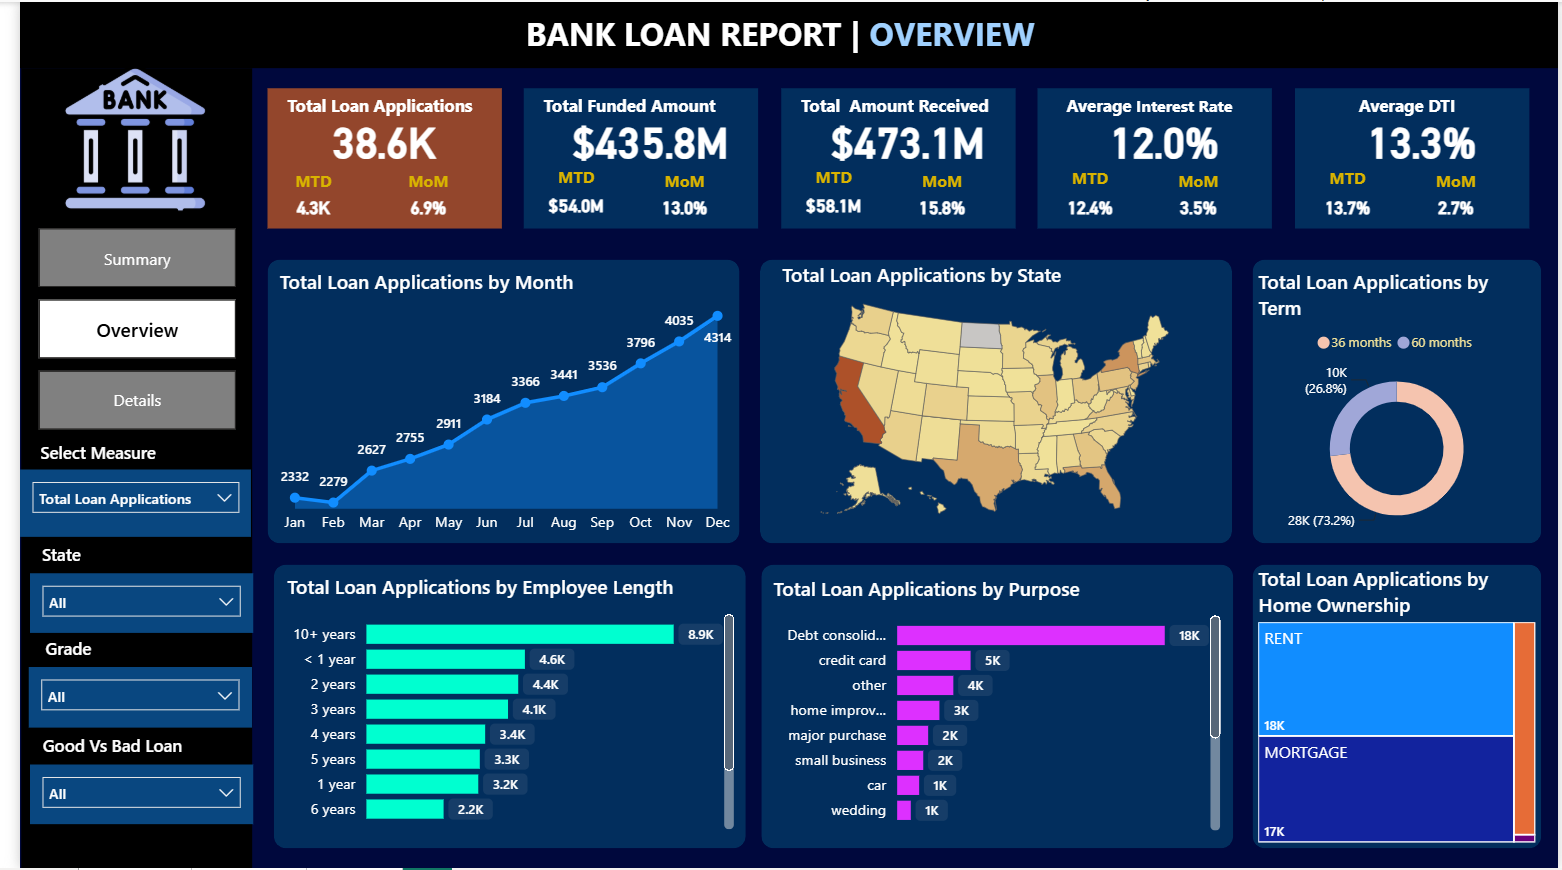

Layout of this report page (visuals, bound fields, positions):
{"tool":"powerbi","page":{"name":"Overview","canvas":[1280,720],"ordinal":1},"visuals":[{"type":"shape","box":[205.8,71.4,194.9,116.6],"z":0,"group":"g1"},{"type":"shape","box":[419.2,71.4,194.9,116.6],"z":0,"group":"g2"},{"type":"shape","box":[632.6,71.4,194.9,116.6],"z":0,"group":"g3"},{"type":"shape","box":[846,71.9,194.9,116.6],"z":0,"group":"g4"},{"type":"shape","box":[1060.1,71.9,194.9,116.6],"z":0,"group":"g5"},{"type":"shape","box":[205.8,214.1,392.5,236],"z":0},{"type":"shape","box":[0,0,1280.3,55],"z":1000},{"type":"textbox","box":[216.8,71.4,223.7,32.9],"z":1000,"group":"g1"},{"type":"textbox","box":[430.2,71.4,223.7,32.9],"z":1000,"group":"g2"},{"type":"textbox","box":[643.6,71.4,223.7,32.9],"z":1000,"group":"g3"},{"type":"textbox","box":[827.4,71.4,223.7,32.9],"z":1000,"group":"g4"},{"type":"textbox","box":[1041.5,71.4,223.7,32.9],"z":1000,"group":"g5"},{"type":"shape","box":[1.4,54.9,192.1,665.5],"z":2000},{"type":"card","fields":{"Values":["bank_loan_data.Total Funded Amount"]},"box":[450.1,77.3,148.2,72.7],"z":2000,"group":"g2"},{"type":"card","fields":{"Values":["bank_loan_data.Total Amount Received"]},"box":[663.5,77.3,148.2,72.7],"z":2000,"group":"g3"},{"type":"card","fields":{"Values":["bank_loan_data.Average Interest Rate"]},"box":[876.9,77.8,148.2,72.7],"z":2000,"group":"g4"},{"type":"card","fields":{"Values":["bank_loan_data.Avg DTI"]},"box":[1091,77.8,148.2,72.7],"z":2000,"group":"g5"},{"type":"card","fields":{"Values":["bank_loan_data.Total Loan Applications"]},"box":[238.7,78.3,127.6,71.4],"z":2000,"group":"g1"},{"type":"textbox","box":[415.8,2.7,447.3,52.1],"z":3000},{"type":"card","title":"MTD","fields":{"Values":["bank_loan_data.MTD Funded Amount"]},"box":[435,136.3,56.3,52.1],"z":3000,"group":"g2"},{"type":"card","title":"MTD","fields":{"Values":["bank_loan_data.MTD Total Amount Received"]},"box":[648.4,136.3,56.3,52.1],"z":3000,"group":"g3"},{"type":"card","title":"MTD","fields":{"Values":["bank_loan_data.MTD AVG Interest Rate"]},"box":[861.8,136.8,56.3,52.1],"z":3000,"group":"g4"},{"type":"card","title":"MTD","fields":{"Values":["bank_loan_data.MTD AVG DTI"]},"box":[1075.9,136.8,56.3,52.1],"z":3000,"group":"g5"},{"type":"card","title":"MTD","fields":{"Values":["bank_loan_data.MTD Loan Applications"]},"box":[216.8,138.6,53.5,49.4],"z":3000,"group":"g1"},{"type":"group","id":"g1","title":"Group 1","box":[205.8,71.4,234.6,116.6],"z":4000},{"type":"card","title":"MoM","fields":{"Values":["bank_loan_data.MoM Loan Appliications"]},"box":[312.8,138.6,53.5,49.4],"z":4000,"group":"g1"},{"type":"card","title":"MoM","fields":{"Values":["bank_loan_data.MoM Total Funded Amount"]},"box":[526.2,138.6,53.5,49.4],"z":4000,"group":"g2"},{"type":"card","title":"MoM","fields":{"Values":["bank_loan_data.MoM Total Amount Received"]},"box":[739.6,138.6,53.5,49.4],"z":4000,"group":"g3"},{"type":"card","title":"MoM","fields":{"Values":["bank_loan_data.MoM Avg Interest Rate"]},"box":[953,139.1,53.5,49.4],"z":4000,"group":"g4"},{"type":"card","title":"MoM","fields":{"Values":["bank_loan_data.MoM Avg DTI"]},"box":[1167.1,139.1,53.5,49.4],"z":4000,"group":"g5"},{"type":"group","id":"g2","title":"Group 1","box":[419.2,71.4,234.6,116.6],"z":5000},{"type":"group","id":"g3","title":"Group 1","box":[632.6,71.4,234.6,116.6],"z":6000},{"type":"group","id":"g4","title":"Group 1","box":[827.4,71.4,223.7,116.6],"z":7000},{"type":"group","id":"g5","title":"Group 1","box":[1041.5,71.4,223.7,118],"z":8000},{"type":"slicer","fields":{"Values":["bank_loan_data.address_state"]},"box":[8.2,474.8,185.2,49.4],"z":9000},{"type":"textbox","box":[8.2,444.6,52.1,30.2],"z":10000},{"type":"slicer","fields":{"Values":["bank_loan_data.grade"]},"box":[6.9,553,185.2,50.8],"z":11000},{"type":"slicer","fields":{"Values":["bank_loan_data.Good vs Bad Loan"]},"box":[8.2,634,185.2,49.4],"z":12000},{"type":"textbox","box":[6.9,522.8,65.9,30.2],"z":13000},{"type":"textbox","box":[0,603.8,153.7,30.2],"z":14000},{"type":"areaChart","fields":{"Y":["bank_loan_data.Total Loan Applications"],"Category":["Date Table.Month"]},"box":[211.3,220.9,387,229.2],"z":15000},{"type":"slicer","fields":{"Values":["Select Measure 2.Select Measure"]},"box":[0,388.3,192.1,56.3],"z":16000},{"type":"textbox","box":[6.9,359.5,115.3,30.2],"z":17000},{"type":"shape","box":[614.8,214.1,392.5,236],"z":18000},{"type":"shapeMap","fields":{"Value":["bank_loan_data.Total Loan Applications"],"Category":["bank_loan_data.address_state"]},"box":[628.5,215.4,363.6,225],"z":19000},{"type":"shape","box":[1025,214.1,240.1,236],"z":20000},{"type":"donutChart","fields":{"Y":["bank_loan_data.Total Loan Applications"],"Category":["bank_loan_data.term"]},"box":[1025,220.9,240.1,229.2],"z":21000},{"type":"shape","box":[211.3,467.9,392.5,236],"z":22000},{"type":"barChart","fields":{"Y":["bank_loan_data.Total Loan Applications"],"Category":["bank_loan_data.emp_length"]},"box":[216.8,474.8,381.5,218.2],"z":23000},{"type":"shape","box":[616.1,467.9,392.5,236],"z":24000},{"type":"barChart","fields":{"Y":["bank_loan_data.Total Loan Applications"],"Category":["bank_loan_data.purpose"]},"box":[621.6,476.2,381.5,218.2],"z":25000},{"type":"shape","box":[1025,467.9,240.1,236],"z":26000},{"type":"treemap","fields":{"Values":["bank_loan_data.Total Loan Applications"],"Group":["bank_loan_data.home_ownership"]},"box":[1025,467.9,240.1,236],"z":27000},{"type":"pageNavigator","box":[15.1,188,164.7,168.8],"z":27001},{"type":"image","box":[27.4,52.1,137.2,123.5],"z":27002}]}

Visuals, with their boxes in screenshot pixels (x1, y1, x2, y2), scaled from the page's 1280x720 canvas onto the 1562x870 screenshot:
shape: bbox=[251, 86, 489, 227]
shape: bbox=[512, 86, 749, 227]
shape: bbox=[772, 86, 1010, 227]
shape: bbox=[1032, 87, 1270, 228]
shape: bbox=[1294, 87, 1531, 228]
shape: bbox=[251, 259, 730, 544]
shape: bbox=[0, 0, 1561, 66]
textbox: bbox=[265, 86, 538, 126]
textbox: bbox=[525, 86, 798, 126]
textbox: bbox=[785, 86, 1058, 126]
textbox: bbox=[1010, 86, 1283, 126]
textbox: bbox=[1271, 86, 1544, 126]
shape: bbox=[2, 66, 236, 869]
card - bank_loan_data.Total Funded Amount: bbox=[549, 93, 730, 181]
card - bank_loan_data.Total Amount Received: bbox=[810, 93, 991, 181]
card - bank_loan_data.Average Interest Rate: bbox=[1070, 94, 1251, 182]
card - bank_loan_data.Avg DTI: bbox=[1331, 94, 1512, 182]
card - bank_loan_data.Total Loan Applications: bbox=[291, 95, 447, 181]
textbox: bbox=[507, 3, 1053, 66]
"MTD" card: bbox=[531, 165, 600, 228]
"MTD" card: bbox=[791, 165, 860, 228]
"MTD" card: bbox=[1052, 165, 1120, 228]
"MTD" card: bbox=[1313, 165, 1382, 228]
"MTD" card: bbox=[265, 167, 330, 227]
"Group 1" group: bbox=[251, 86, 537, 227]
"MoM" card: bbox=[382, 167, 447, 227]
"MoM" card: bbox=[642, 167, 707, 227]
"MoM" card: bbox=[903, 167, 968, 227]
"MoM" card: bbox=[1163, 168, 1228, 228]
"MoM" card: bbox=[1424, 168, 1490, 228]
"Group 1" group: bbox=[512, 86, 798, 227]
"Group 1" group: bbox=[772, 86, 1058, 227]
"Group 1" group: bbox=[1010, 86, 1283, 227]
"Group 1" group: bbox=[1271, 86, 1544, 229]
slicer - bank_loan_data.address_state: bbox=[10, 574, 236, 633]
textbox: bbox=[10, 537, 74, 574]
slicer - bank_loan_data.grade: bbox=[8, 668, 234, 730]
slicer - bank_loan_data.Good vs Bad Loan: bbox=[10, 766, 236, 826]
textbox: bbox=[8, 632, 89, 668]
textbox: bbox=[0, 730, 188, 766]
areaChart - bank_loan_data.Total Loan Applications x Date Table.Month: bbox=[258, 267, 730, 544]
slicer - Select Measure 2.Select Measure: bbox=[0, 469, 234, 537]
textbox: bbox=[8, 434, 149, 471]
shape: bbox=[750, 259, 1229, 544]
shapeMap - bank_loan_data.Total Loan Applications x bank_loan_data.address_state: bbox=[767, 260, 1211, 532]
shape: bbox=[1251, 259, 1544, 544]
donutChart - bank_loan_data.Total Loan Applications x bank_loan_data.term: bbox=[1251, 267, 1544, 544]
shape: bbox=[258, 565, 737, 851]
barChart - bank_loan_data.Total Loan Applications x bank_loan_data.emp_length: bbox=[265, 574, 730, 837]
shape: bbox=[752, 565, 1231, 851]
barChart - bank_loan_data.Total Loan Applications x bank_loan_data.purpose: bbox=[759, 575, 1224, 839]
shape: bbox=[1251, 565, 1544, 851]
treemap - bank_loan_data.Total Loan Applications x bank_loan_data.home_ownership: bbox=[1251, 565, 1544, 851]
pageNavigator: bbox=[18, 227, 219, 431]
image: bbox=[33, 63, 201, 212]
